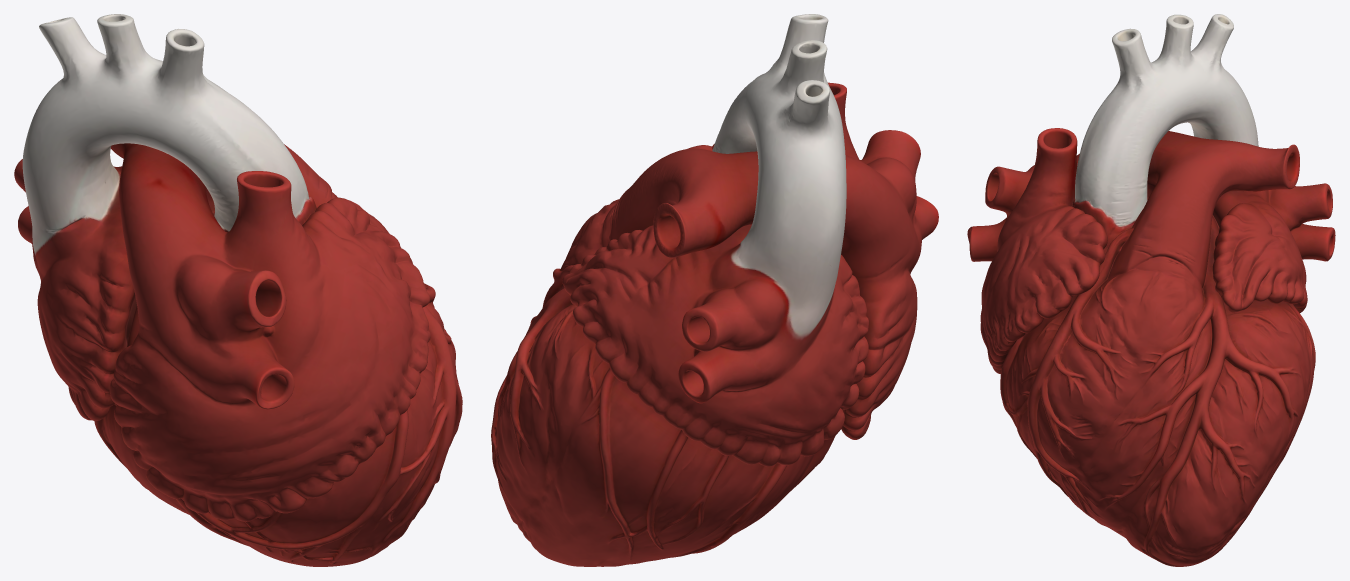
File: heart-tripo.opt.glb
The picture shows the model from 3 angles, left to right: view 1: azimuth 30°, elevation 25°; view 2: azimuth 150°, elevation 25°; view 3: azimuth 270°, elevation 25°; orthographic projection. The views are drawn at different scales.
Visible parts, largest first — view 1: tripo_node_df84a975-faf6-43bc-b701-a7d210e034db; view 2: tripo_node_df84a975-faf6-43bc-b701-a7d210e034db; view 3: tripo_node_df84a975-faf6-43bc-b701-a7d210e034db.
Part boxes in pixels (x1,y1,x2,y2): tripo_node_df84a975-faf6-43bc-b701-a7d210e034db: [14, 14, 462, 566]; tripo_node_df84a975-faf6-43bc-b701-a7d210e034db: [491, 14, 938, 566]; tripo_node_df84a975-faf6-43bc-b701-a7d210e034db: [967, 14, 1335, 566].
Bounding box in the file's own units: 0.6384 × 0.9808 × 0.7211.
Materials: 1 (1 with a texture image).
